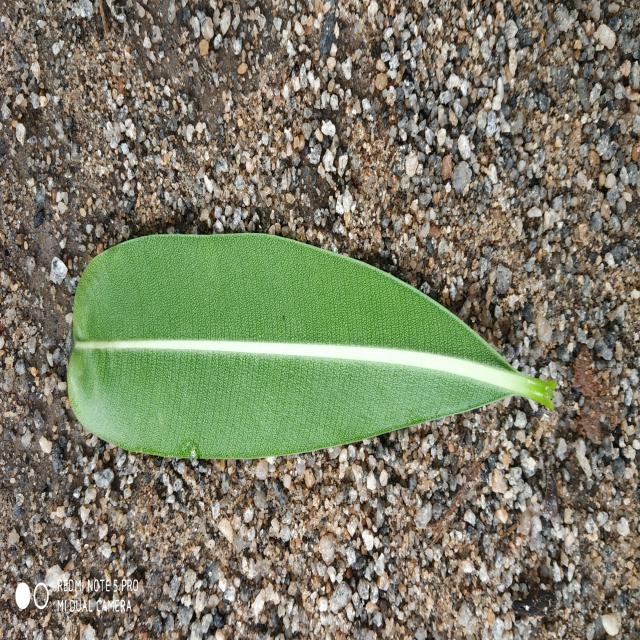ganigale: (68, 233, 555, 458)
